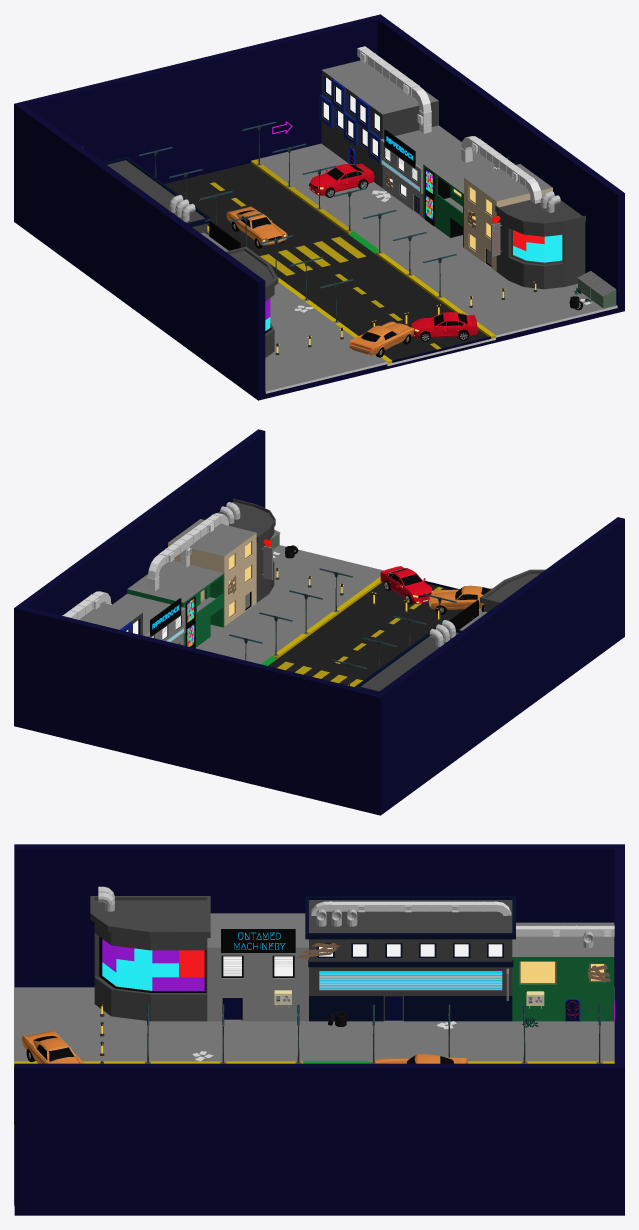
The model's file is pokoj_ulica.glb.
3 views of the same model, one above another, from view 1: azimuth 30°, elevation 25°; view 2: azimuth 150°, elevation 25°; view 3: azimuth 270°, elevation 25° (orthographic). The views are drawn at different scales.
Visible parts, largest first — view 1: pokój, ulica + chodnik, budynek 5, budynek 9, budynek 8, budynek 6, budynek 7, Light_Handle_high, budynek 3, vent 3, auto, vent 4 (+5 smaller); view 2: pokój, ulica + chodnik, budynek 8, budynek 7, budynek 9, budynek 3, vent 4, budynek 6, auto, budynek 5, Light_Handle_high, mustang 1965 (+2 smaller); view 3: pokój, ulica + chodnik, budynek 3, budynek 1, budynek 2, budynek 4, GN Instance, vent 1, neon nazwa gry, mustang 1965, vent 2, Light_Handle_high (+2 smaller).
Part boxes in pixels (box(x1,y1,x2,y2)): pokój: box(14, 14, 624, 400); ulica + chodnik: box(165, 143, 617, 393); budynek 5: box(319, 60, 438, 187); budynek 9: box(495, 200, 585, 289); budynek 8: box(464, 164, 552, 271); budynek 6: box(380, 125, 473, 217); budynek 7: box(423, 152, 494, 247); Light_Handle_high: box(139, 121, 456, 323); budynek 3: box(104, 157, 211, 234); vent 3: box(357, 46, 431, 133); auto: box(411, 312, 477, 341); vent 4: box(461, 136, 541, 203); pokój: box(14, 429, 624, 815); ulica + chodnik: box(196, 545, 482, 686); budynek 8: box(168, 519, 256, 626); budynek 7: box(127, 560, 224, 647); budynek 9: box(218, 499, 275, 602); budynek 3: box(355, 627, 461, 692); vent 4: box(147, 513, 228, 591); budynek 6: box(112, 593, 185, 645); auto: box(380, 566, 432, 604); budynek 5: box(79, 603, 142, 635); Light_Handle_high: box(229, 568, 456, 685); mustang 1965: box(429, 585, 492, 609); pokój: box(14, 844, 624, 1215); ulica + chodnik: box(14, 987, 614, 1204); budynek 3: box(305, 896, 515, 1021); budynek 1: box(90, 896, 210, 1021); budynek 2: box(207, 913, 308, 1021); budynek 4: box(512, 922, 614, 1021); GN Instance: box(319, 971, 502, 989); vent 1: box(311, 901, 511, 915); neon nazwa gry: box(221, 929, 295, 952); mustang 1965: box(22, 1030, 84, 1063); vent 2: box(516, 925, 614, 936); Light_Handle_high: box(145, 1004, 602, 1063).
Size of the model in its own units: 52 by 16 by 60.06.
58 materials, 1 textured.
